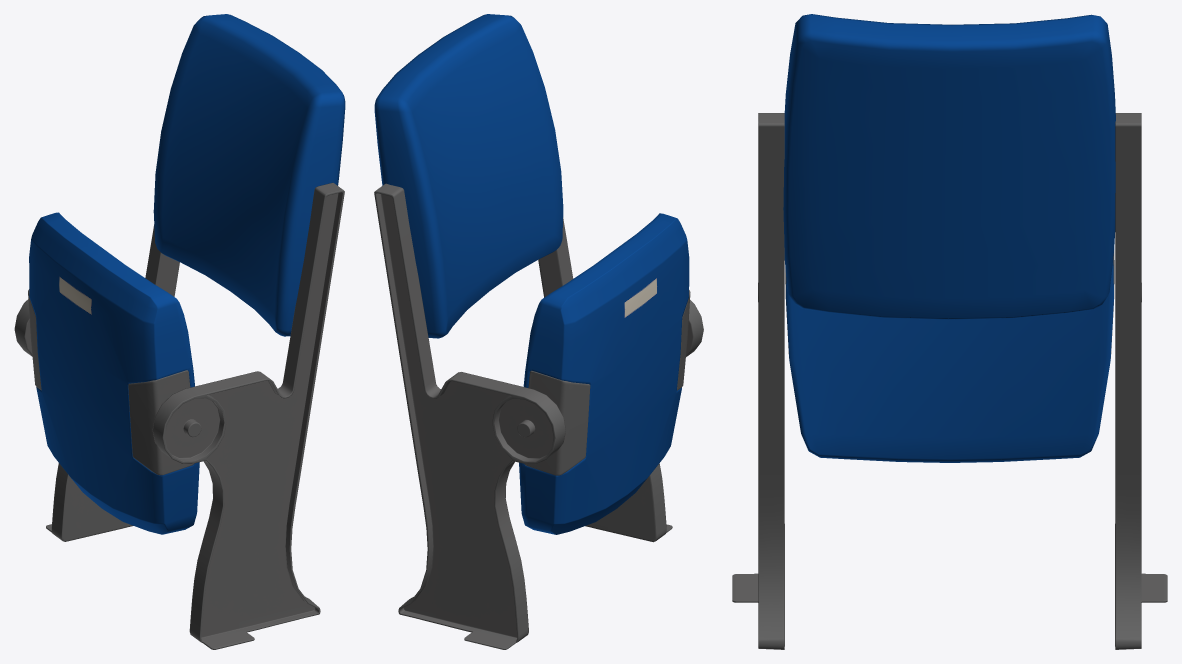
File: SM_069_Chair_24.fbx
3 renders of one model, left to right at view 1: azimuth 30°, elevation 25°; view 2: azimuth 150°, elevation 25°; view 3: azimuth 270°, elevation 25°, orthographic. The views are drawn at different scales.
Parts seen in each view (by area): view 1: SM_069_Chair_24; view 2: SM_069_Chair_24; view 3: SM_069_Chair_24.
Boxes of the visible parts, box(x1,y1,x2,y2) form: SM_069_Chair_24: box(14, 14, 345, 649); SM_069_Chair_24: box(374, 14, 703, 649); SM_069_Chair_24: box(732, 14, 1167, 649).
Size of the model in its own units: 46.88 by 60.47 by 99.41.
1 material, 1 textured.
